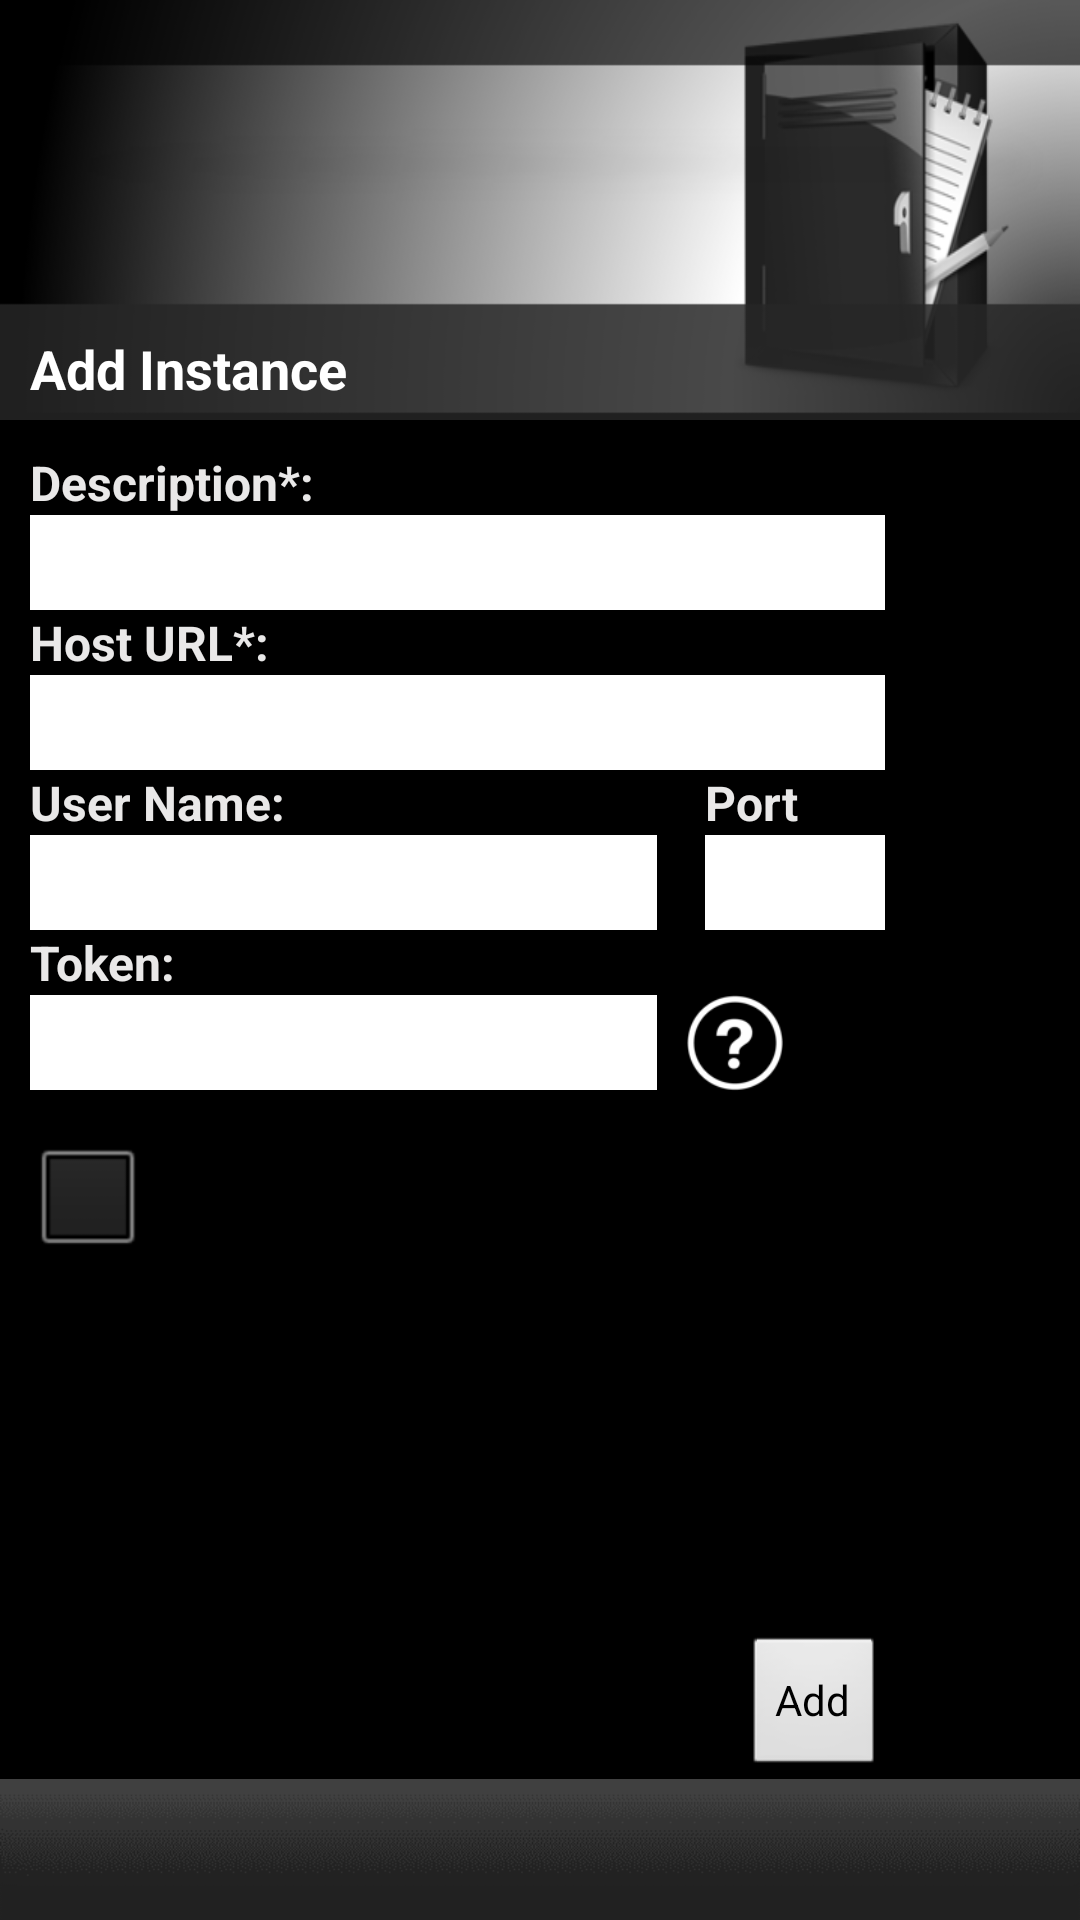

Locate icon controls on the screen. Image size 1080px x 1920px, boxes as (x1, y1, x2, y2).
question mark: (687, 995, 783, 1090)
